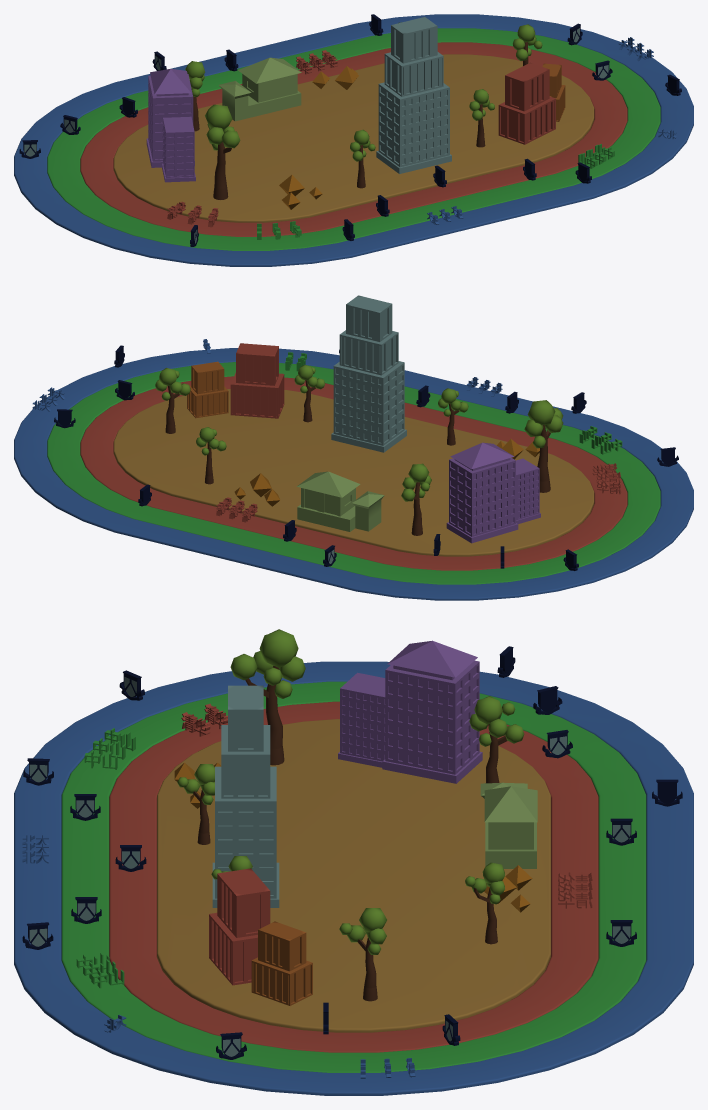
3 views of the same model, one above another, from view 1: azimuth 30°, elevation 25°; view 2: azimuth 150°, elevation 25°; view 3: azimuth 270°, elevation 25° (orthographic). The views are drawn at different scales.
Parts seen in each view (by area): view 1: 对象005, Cylinder001, 对象007, 对象006, Box037, Box038, 对象004, 对象002, 对象003, Box039, Cylinder002, 对象001 (+1 smaller); view 2: 对象005, Cylinder001, 对象007, 对象006, Box037, 对象002, 对象004, Box038, Box039, 对象003, Cylinder002, 对象001 (+1 smaller); view 3: 对象005, Cylinder001, 对象007, 对象006, 对象002, Box037, Box038, 对象004, Box039, 对象003, Cylinder002, Box001.
Part boxes in pixels (box(x1,y1,x2,y2)): 对象005: box(113, 54, 594, 222); Cylinder001: box(14, 14, 693, 266); 对象007: box(47, 28, 660, 250); 对象006: box(80, 42, 627, 236); Box037: box(376, 17, 451, 173); Box038: box(498, 62, 555, 144); 对象004: box(219, 57, 301, 121); 对象002: box(146, 68, 194, 167); 对象003: box(162, 116, 195, 182); Box039: box(542, 63, 565, 121); Cylinder002: box(213, 142, 231, 199); 对象001: box(378, 84, 449, 170); 对象005: box(113, 389, 594, 556); Cylinder001: box(14, 348, 693, 600); 对象007: box(47, 362, 660, 584); 对象006: box(80, 376, 627, 570); Box037: box(331, 295, 406, 452); 对象002: box(446, 442, 518, 543); 对象004: box(297, 471, 384, 531); Box038: box(230, 343, 284, 418); Box039: box(187, 361, 228, 418); 对象003: box(516, 458, 540, 523); Cylinder002: box(537, 425, 550, 492); 对象001: box(333, 366, 405, 450); 对象005: box(157, 719, 550, 1032); Cylinder001: box(14, 661, 693, 1095); 对象007: box(61, 681, 646, 1072); 对象006: box(109, 701, 598, 1052); 对象002: box(382, 640, 482, 783); Box037: box(212, 685, 279, 907); Box038: box(209, 868, 270, 985); 对象004: box(480, 782, 537, 868); Box039: box(251, 921, 312, 1005); 对象003: box(338, 672, 385, 767); Cylinder002: box(245, 666, 284, 765); Box001: box(259, 629, 298, 667).
Size of the model in its own units: 812 by 174 by 541.
